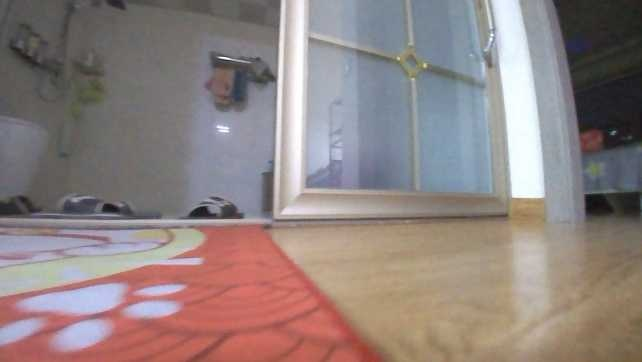blanket: (0, 224, 391, 359)
door_sill: (1, 215, 274, 229)
slipper: (176, 194, 246, 221), (94, 198, 162, 220)
toilet: (1, 112, 48, 210)
